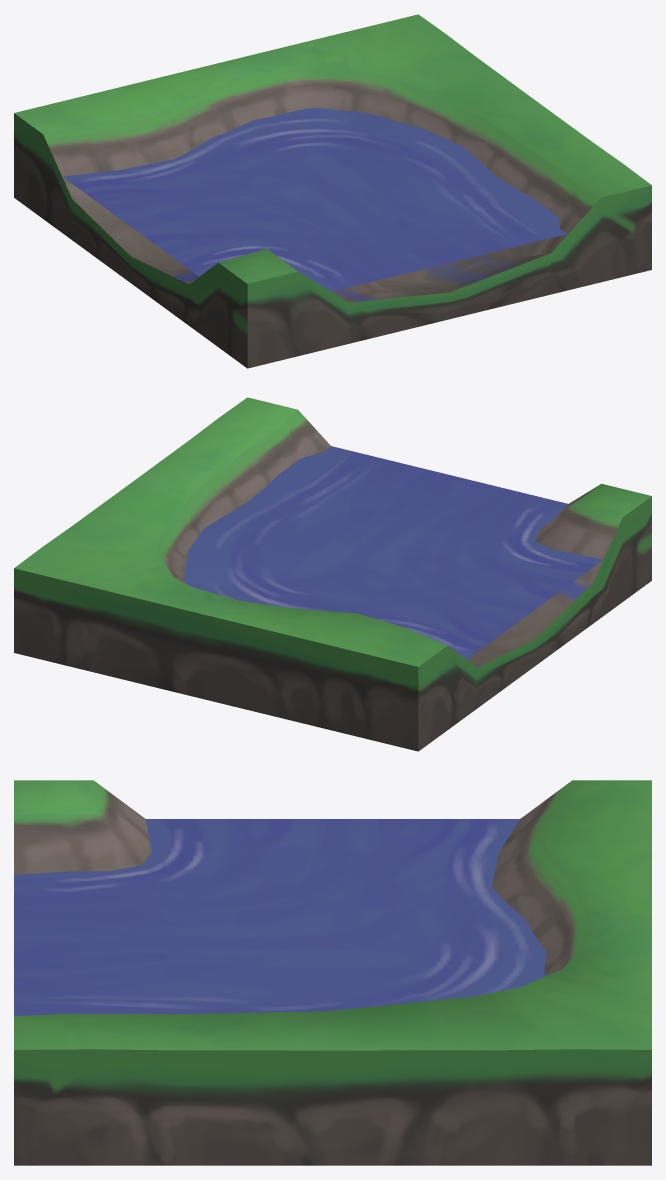
Rendered from river_01.fbx.
3 views of the same model, one above another, from view 1: azimuth 30°, elevation 25°; view 2: azimuth 150°, elevation 25°; view 3: azimuth 270°, elevation 25° (orthographic). The views are drawn at different scales.
Parts seen in each view (by area): view 1: river_01; view 2: river_01; view 3: river_01.
Part boxes in pixels (box(x1,y1,x2,y2)): river_01: box(14, 14, 651, 368); river_01: box(14, 397, 651, 751); river_01: box(14, 780, 651, 1165).
Bounding box in the file's own units: 1000 × 201 × 1000.
Materials: 1 (1 with a texture image).
